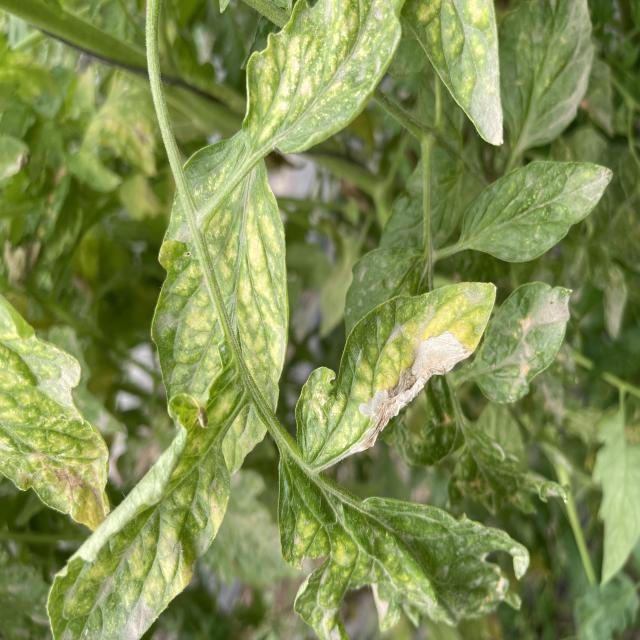Tuta absoluta: (334, 322, 472, 462)
